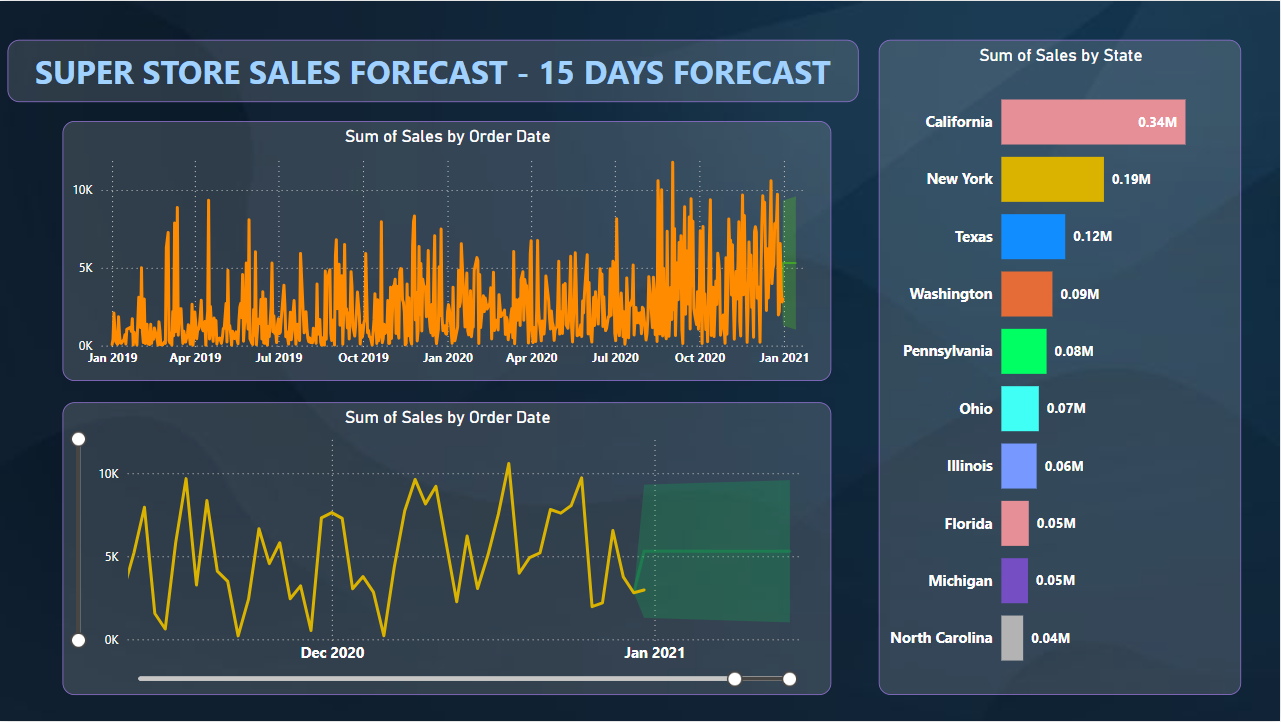

What the dashboard file says about the page in this screenshot:
{"tool":"powerbi","page":{"name":"Page 2","canvas":[1280,720],"ordinal":1},"visuals":[{"type":"lineChart","fields":{"Y":["Sum(SuperStore_Sales_Dataset.Sales)"],"Category":["SuperStore_Sales_Dataset.Order Date"]},"box":[62.5,120,768.8,260],"z":0},{"type":"lineChart","fields":{"Y":["Sum(SuperStore_Sales_Dataset.Sales)"],"Category":["SuperStore_Sales_Dataset.Order Date"]},"box":[62.5,401.2,768.8,292.5],"z":1000},{"type":"clusteredBarChart","fields":{"Category":["SuperStore_Sales_Dataset.State"],"Y":["Sum(SuperStore_Sales_Dataset.Sales)"]},"box":[878.8,38.8,362.5,655],"z":2000},{"type":"textbox","box":[7.5,38.8,851.2,62.5],"z":3000}]}

Visuals, with their boxes in screenshot pixels (x1, y1, x2, y2), scaled from the page's 1280x720 canvas onto the 1281x722 screenshot:
lineChart - Sum(SuperStore_Sales_Dataset.Sales) x SuperStore_Sales_Dataset.Order Date: locate(63, 120, 832, 381)
lineChart - Sum(SuperStore_Sales_Dataset.Sales) x SuperStore_Sales_Dataset.Order Date: locate(63, 402, 832, 696)
clusteredBarChart - SuperStore_Sales_Dataset.State x Sum(SuperStore_Sales_Dataset.Sales): locate(879, 39, 1242, 696)
textbox: locate(8, 39, 859, 102)
